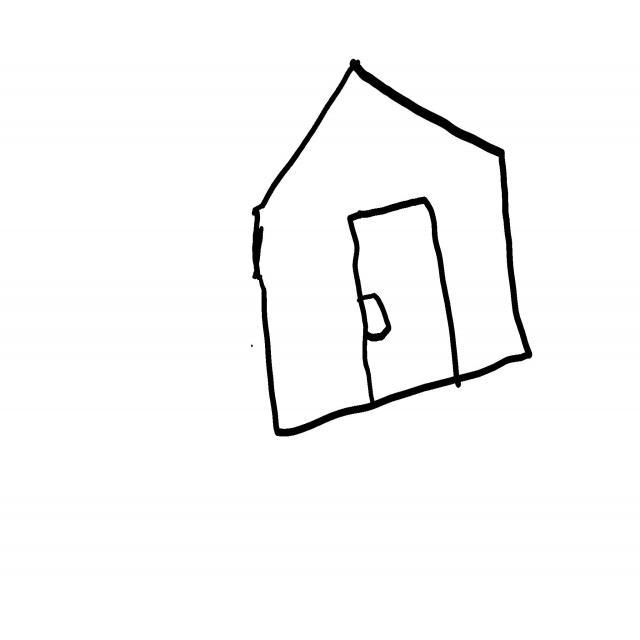door: (351, 198, 460, 400)
house: (254, 61, 532, 436)
wall: (254, 60, 532, 436)
